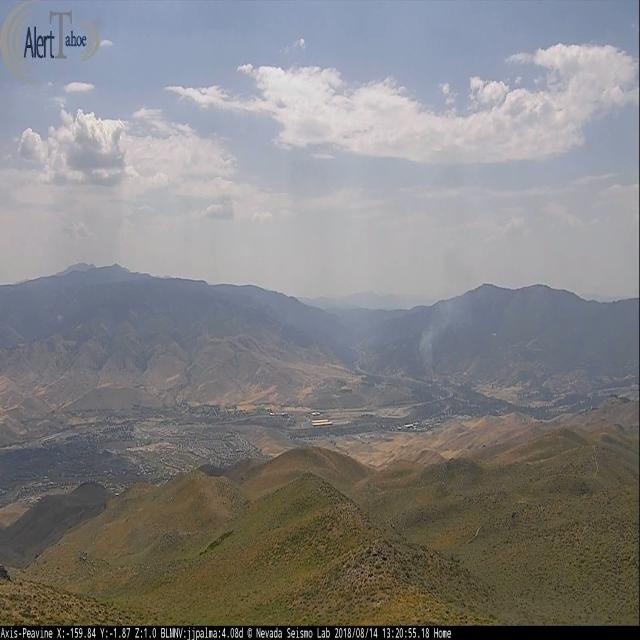smoke: (419, 310, 449, 382)
